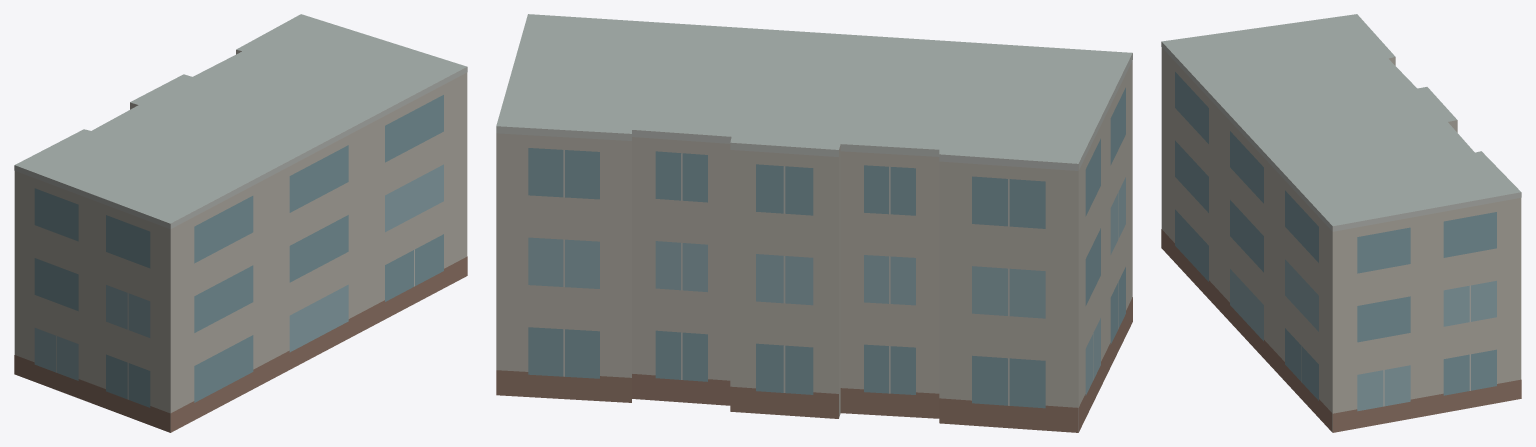
The model's file is survey-upis-32834265.glb.
3 renders of one model, left to right at view 1: azimuth 30°, elevation 25°; view 2: azimuth 150°, elevation 25°; view 3: azimuth 270°, elevation 25°, orthographic. The views are drawn at different scales.
Visible parts, largest first — view 1: survey-upis-32834265.tmp; view 2: survey-upis-32834265.tmp; view 3: survey-upis-32834265.tmp.
Part boxes in pixels (x1=…): survey-upis-32834265.tmp: x1=14, y1=14, x2=467, y2=432; survey-upis-32834265.tmp: x1=496, y1=14, x2=1132, y2=432; survey-upis-32834265.tmp: x1=1161, y1=14, x2=1521, y2=432.
Bounding box in the file's own units: 20.18 × 9.15 × 14.46.
